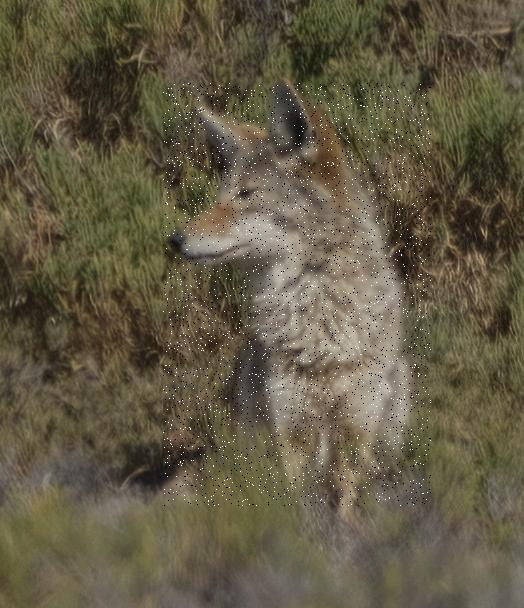Coyote: (164, 83, 432, 506)
